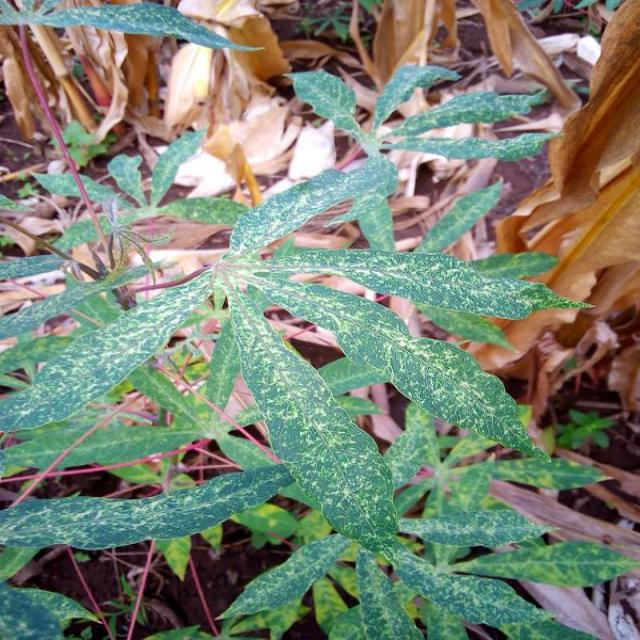cassava leaf: (220, 272, 402, 551), (2, 262, 216, 436)
